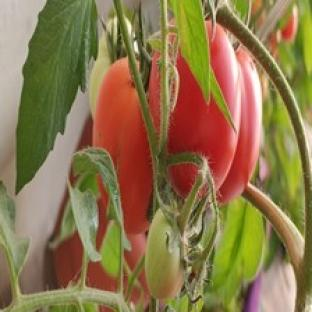Tomato: (168, 21, 240, 189), (94, 59, 151, 233), (219, 48, 261, 204), (145, 209, 183, 299), (90, 17, 118, 116), (52, 233, 82, 288), (280, 5, 298, 43)
